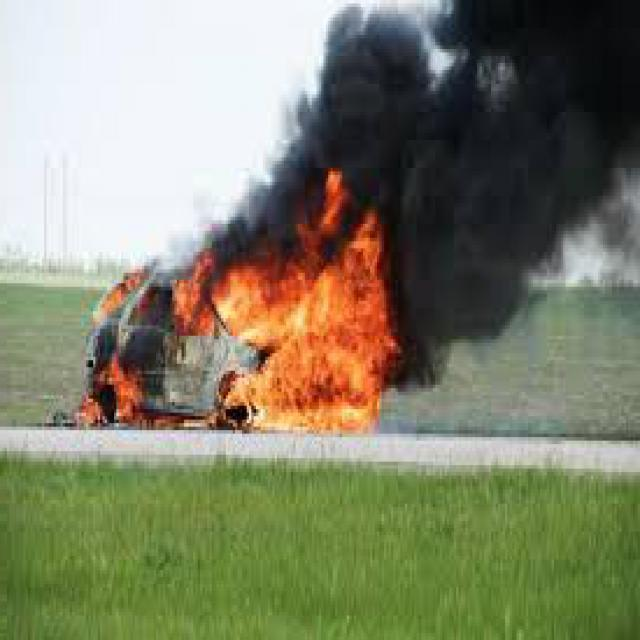Fire: (74, 150, 404, 460)
Smoke: (218, 1, 634, 372)
